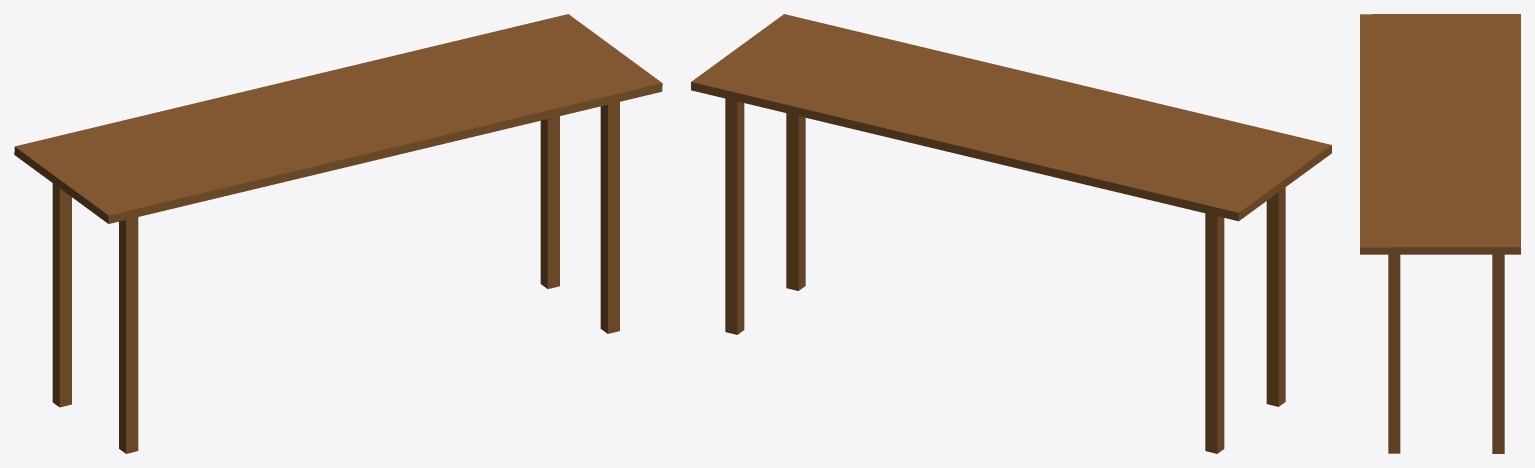
File: desk.glb
3 views of the same model, side by side, from view 1: azimuth 30°, elevation 25°; view 2: azimuth 150°, elevation 25°; view 3: azimuth 270°, elevation 25° (orthographic). The views are drawn at different scales.
Visible parts, largest first — view 1: Cube, Cube.003, Cube.004, Cube.001, Cube.002; view 2: Cube, Cube.001, Cube.002, Cube.003, Cube.004; view 3: Cube, Cube.002, Cube.004.
Part boxes in pixels (<box>): Cube: <box>14,14,662,223</box>; Cube.003: <box>119,217,138,453</box>; Cube.004: <box>600,102,619,333</box>; Cube.001: <box>52,183,71,407</box>; Cube.002: <box>540,116,559,288</box>; Cube: <box>691,14,1331,221</box>; Cube.001: <box>1205,213,1224,453</box>; Cube.002: <box>725,98,744,334</box>; Cube.003: <box>1266,187,1285,406</box>; Cube.004: <box>786,113,805,290</box>; Cube: <box>1360,14,1520,254</box>; Cube.002: <box>1492,254,1504,453</box>; Cube.004: <box>1388,254,1400,453</box>.
Size of the model in its own units: 13.59 by 6.03 by 4.
